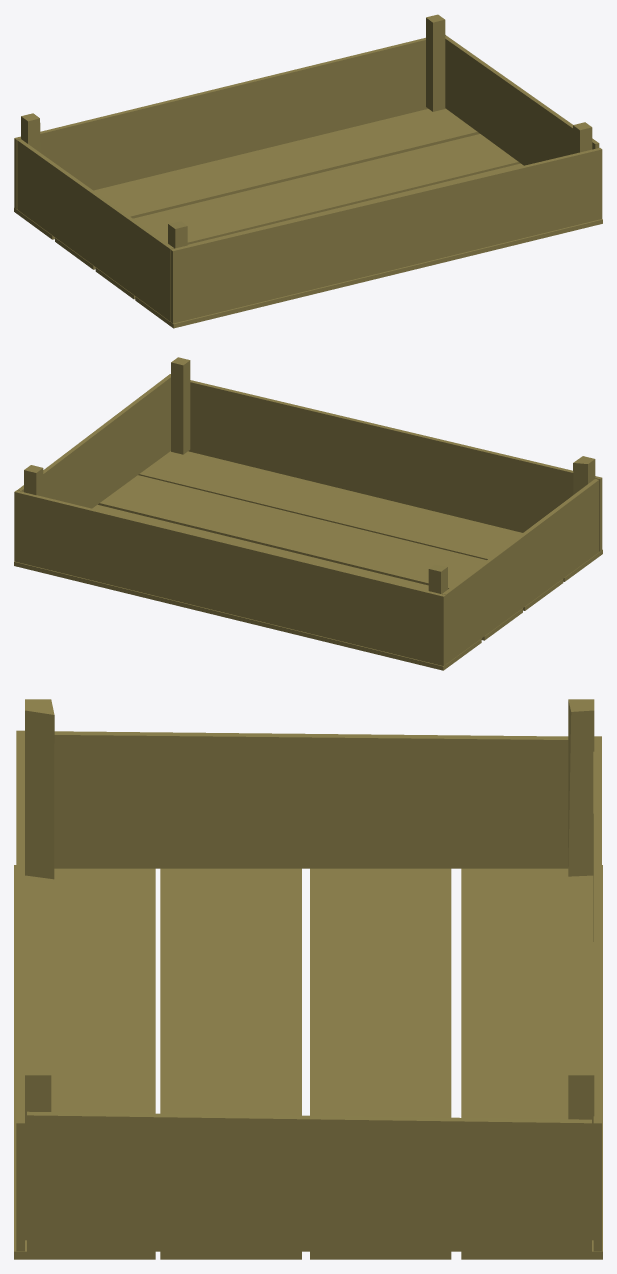
The model's file is fruitbox02.fbx.
3 views of the same model, one above another, from view 1: azimuth 30°, elevation 25°; view 2: azimuth 150°, elevation 25°; view 3: azimuth 270°, elevation 25° (orthographic). The views are drawn at different scales.
Parts seen in each view (by area): view 1: Cube.001; view 2: Cube.001; view 3: Cube.001.
Boxes of the visible parts, x1,y1,x2,y2 form: Cube.001: (14,14,602,328); Cube.001: (14,357,602,670); Cube.001: (14,699,602,1259).
Size of the model in its own units: 0.6217 by 0.1329 by 0.3999.
